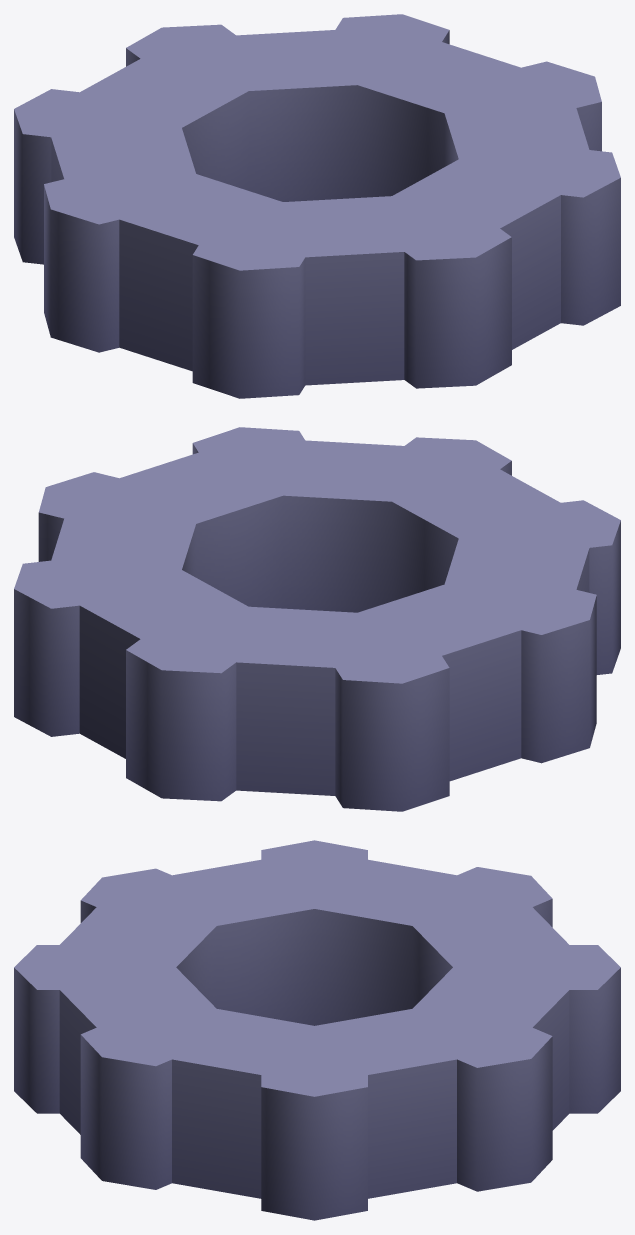
The model's file is kenney-factory-cog-b.glb.
3 views of the same model, one above another, from view 1: azimuth 30°, elevation 25°; view 2: azimuth 150°, elevation 25°; view 3: azimuth 270°, elevation 25° (orthographic). The views are drawn at different scales.
Visible parts, largest first — view 1: cog-b; view 2: cog-b; view 3: cog-b.
Part boxes in pixels (x1,y1,x2,y2): cog-b: (14,14,620,398); cog-b: (14,427,620,811); cog-b: (14,840,620,1220).
Bounding box in the file's own units: 1.5 × 0.3375 × 1.5.
1 material, 1 textured.
